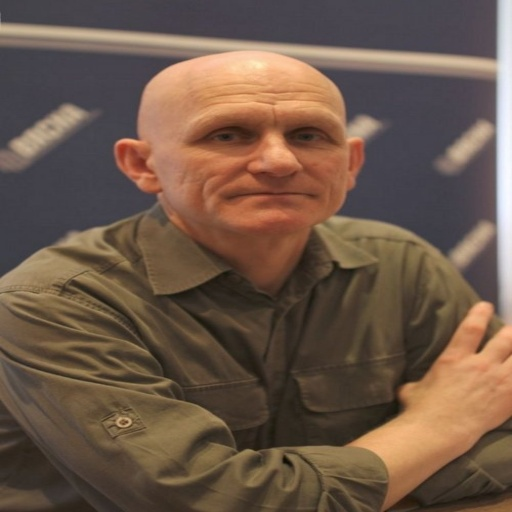hand: (366, 281, 502, 493)
